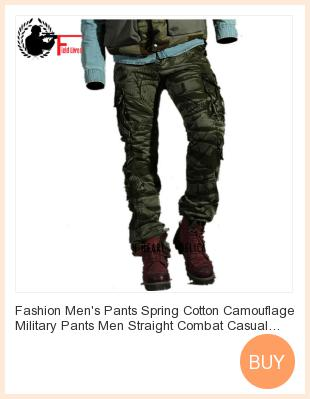pants: (108, 58, 223, 243)
